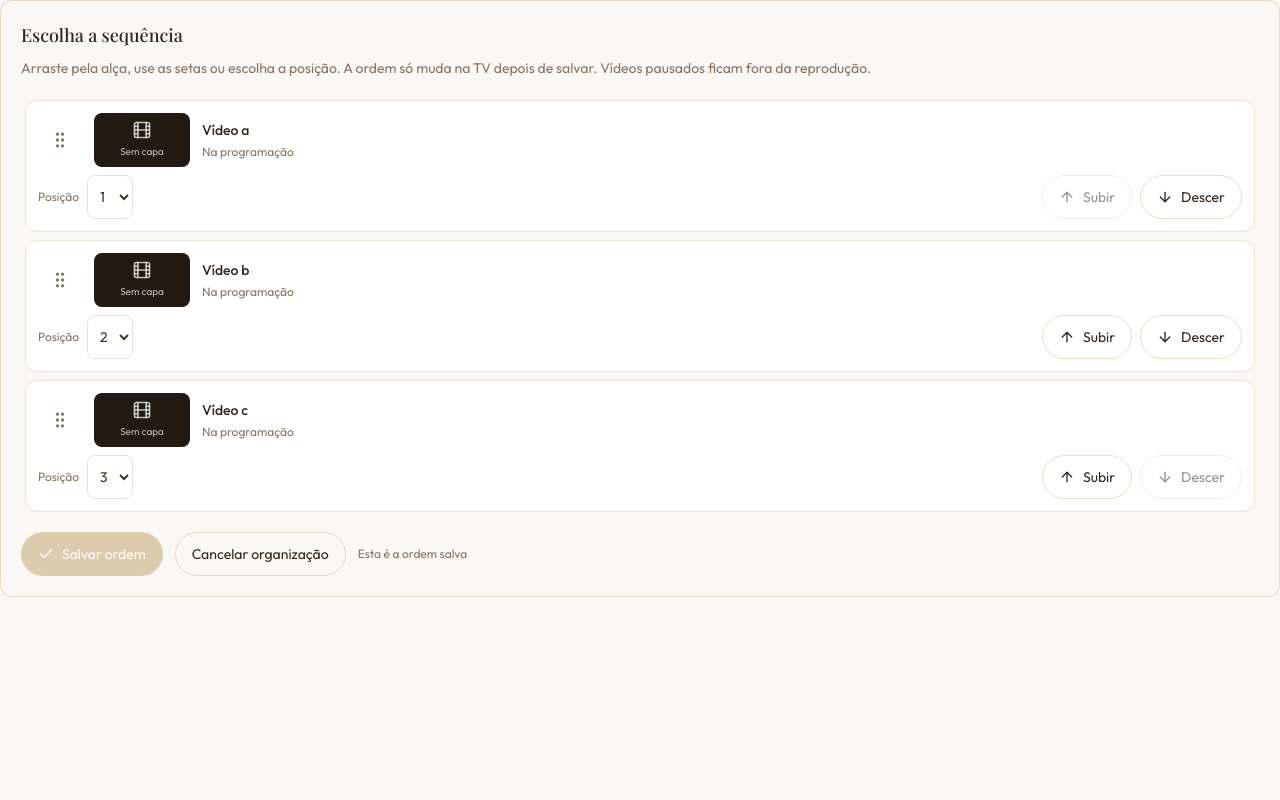
Test: adopts only a successful explicit refetch result and uses its complete snapshot for the next save
The width and height of the screenshot is (1280, 800).
Later steps or results of the test are not shown.
Select "1" in the dropdown named "Posição de Vídeo c" at (110, 477), box 87,455 -> 133,499
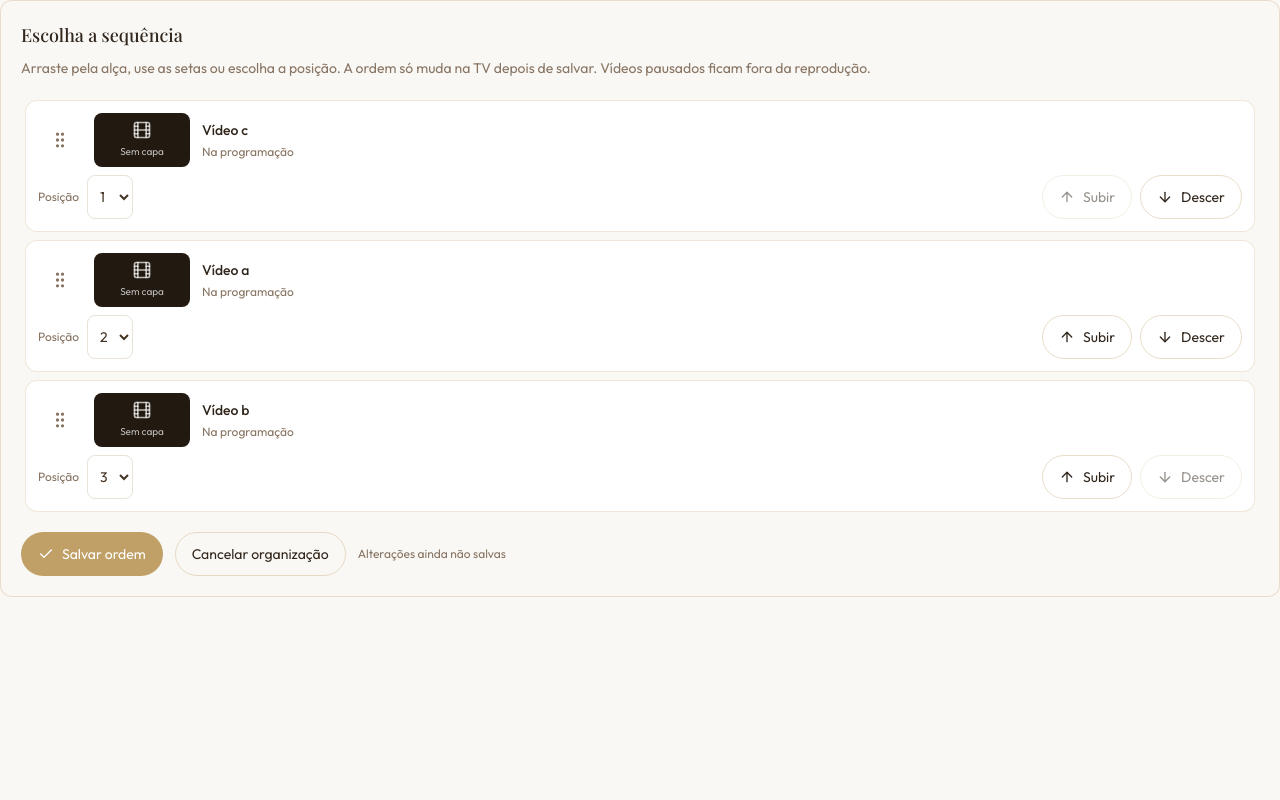
Click the button "Salvar ordem" at (92, 554), box 21,532 -> 163,576
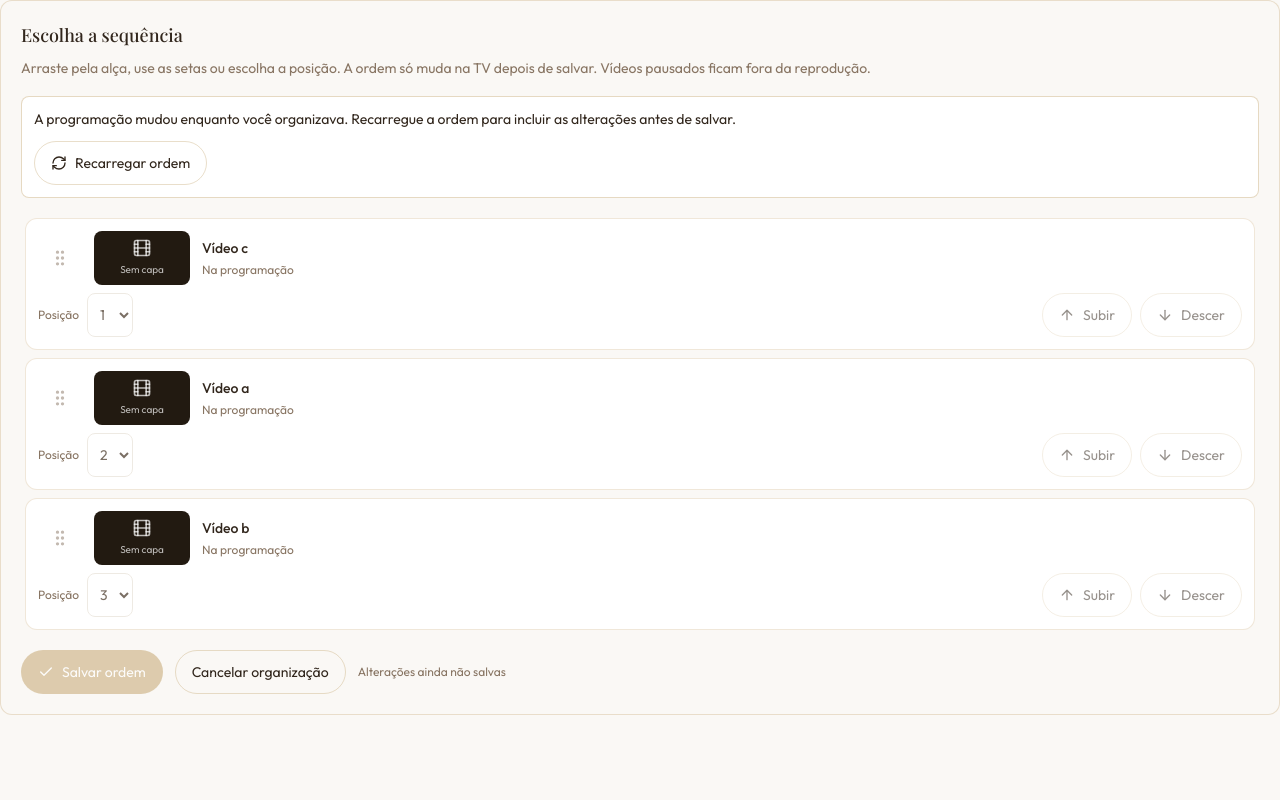
expect the button "Recarregar ordem" is enabled: met
Click the button "Recarregar ordem" at (121, 163), box 34,141 -> 207,185
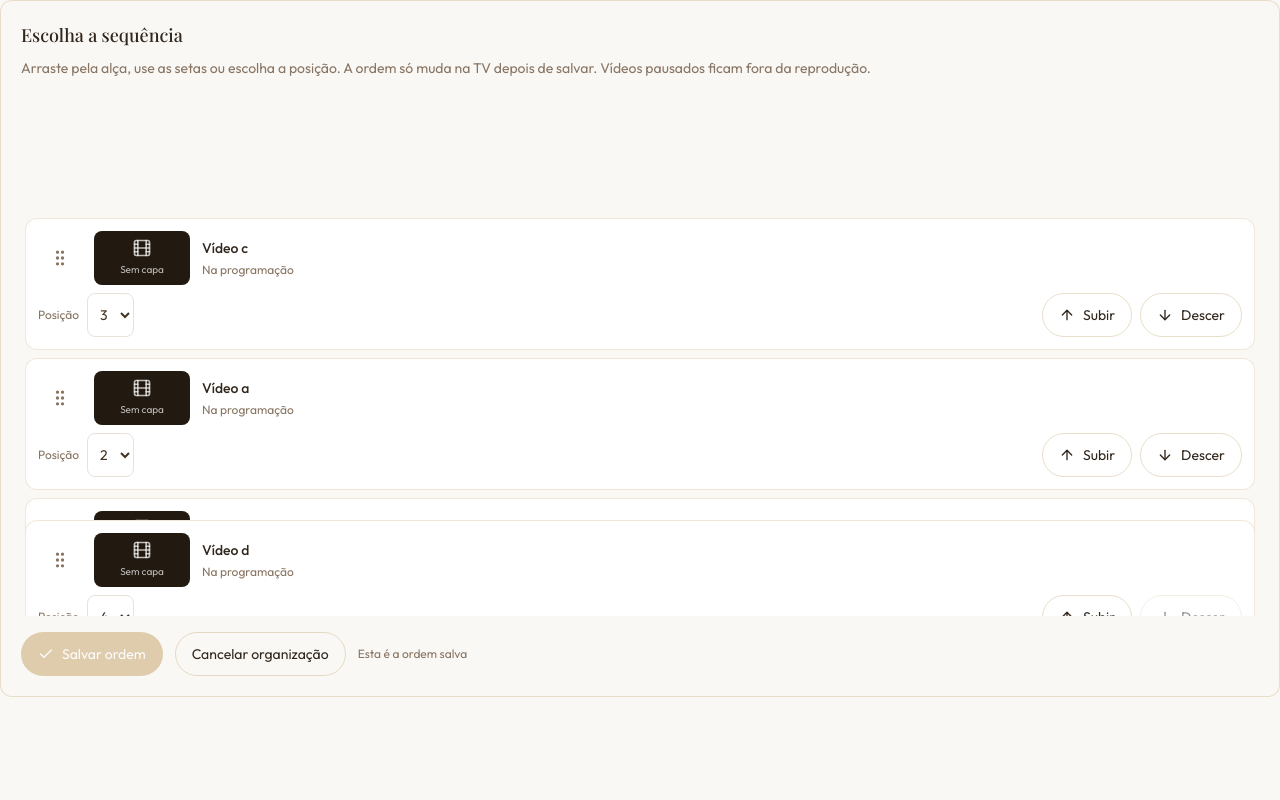
expect the dropdown named "Posição de Vídeo b" shows "1": met, box 87,573 -> 134,616
expect the text "A programação mudou enquanto você organizava." is gone: met
expect the text "Esta é a ordem salva" is shown: met, box 358,646 -> 467,662
